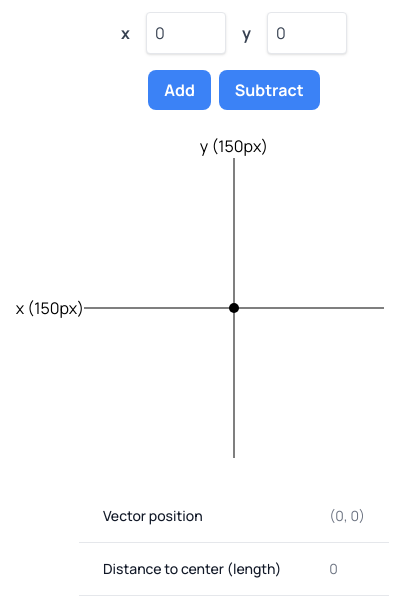
Test: JVector › updates the vector position when clicking "Subtract" button
In the number field labelled "x": (186,33) [146, 12, 226, 54], type "5"
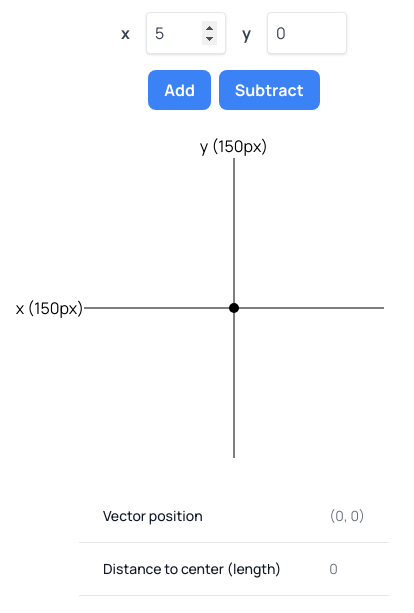
In the number field labelled "y": (307,33) [267, 12, 347, 54], type "10"
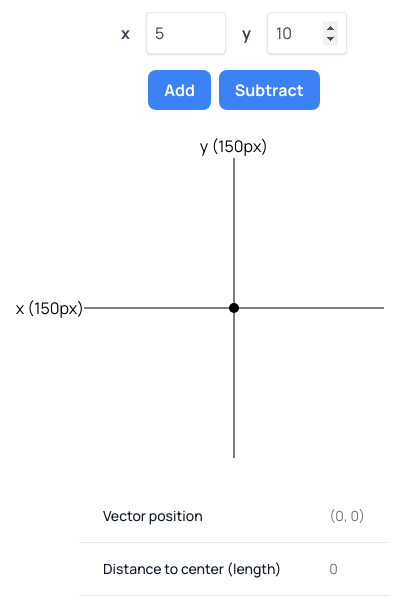
Click the button "Subtract": (269,90) [219, 70, 320, 110]
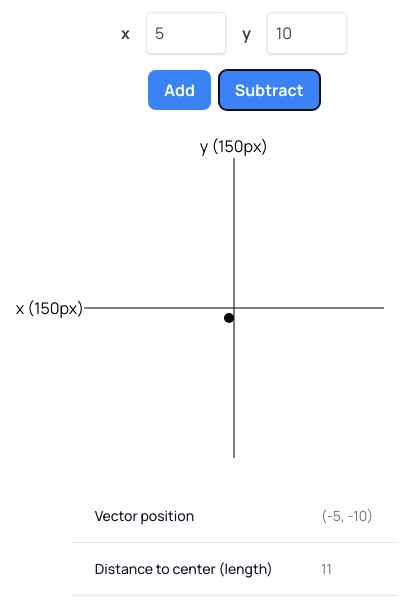
Expected: the text "(-5, -10)" is shown, [297, 490, 397, 542]
